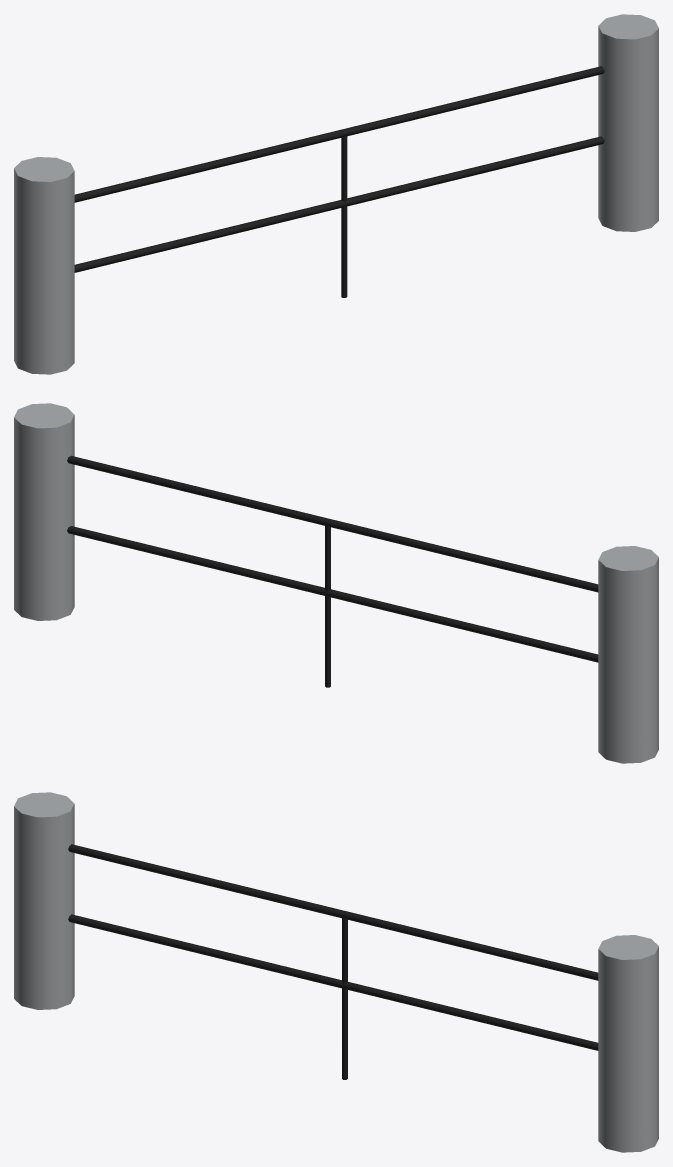
File: SM_fence_02.fbx
The picture shows the model from 3 angles, top to bottom: view 1: azimuth 30°, elevation 25°; view 2: azimuth 150°, elevation 25°; view 3: azimuth 330°, elevation 25°; orthographic projection.
Visible parts, largest first — view 1: Box219; view 2: Box219; view 3: Box219.
Part boxes in pixels (x1,y1,x2,y2): Box219: (14,14,658,374); Box219: (14,403,658,763); Box219: (14,792,658,1152).
Bounding box in the file's own units: 144 × 11.32 × 43.35.
